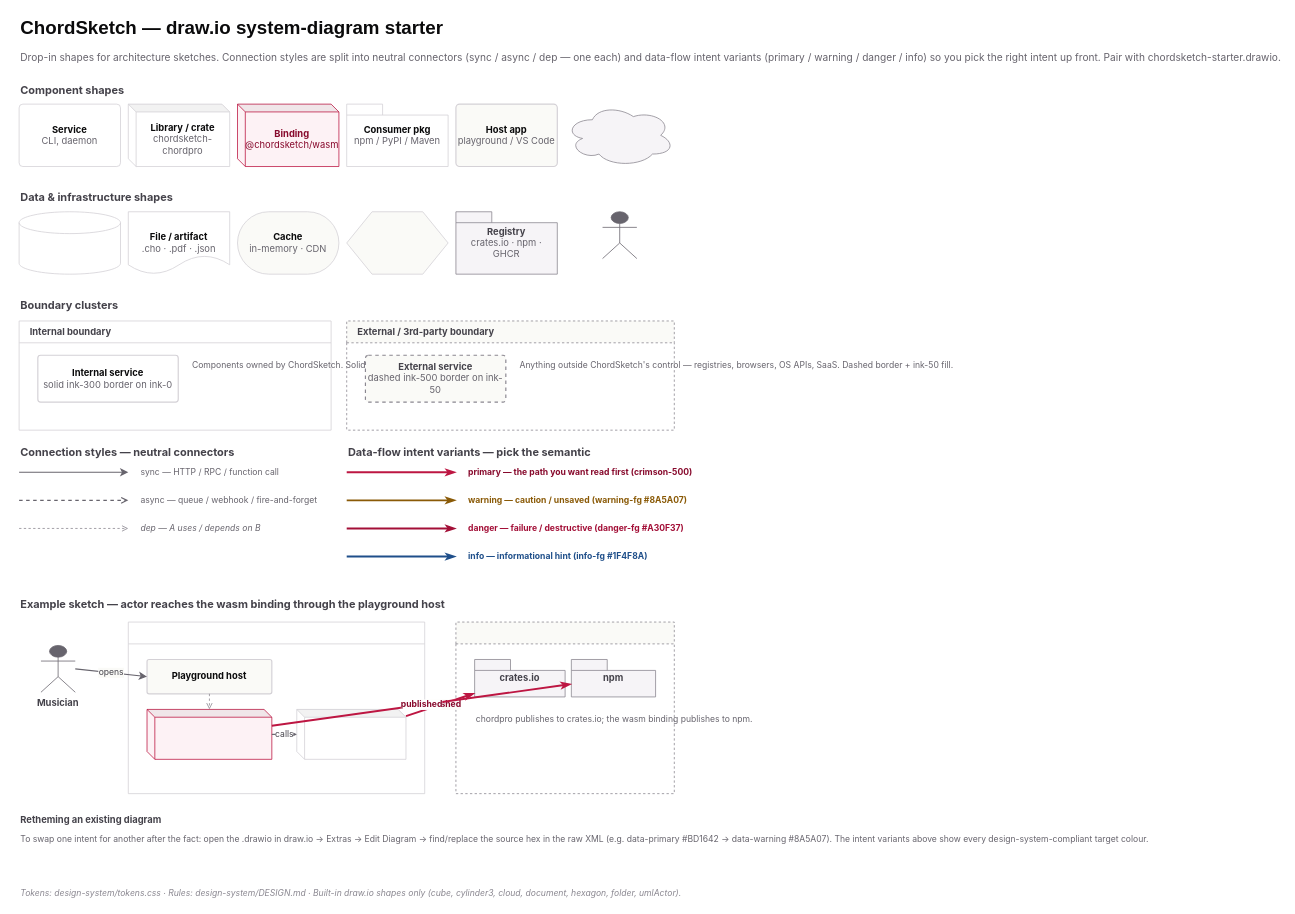
Image size: 1295x914. Some labels were removed from this diagram. The box of each missing label's shape, as (x1, y1, x2, y2) in pixels:
@chordsketch/wasm: (146, 709, 272, 759)
Actor / user: (602, 211, 637, 259)
ChordSketch (internal): (128, 621, 425, 794)
chordsketch-chordpro: (296, 709, 406, 759)
Database SQLite, Postgres…: (18, 211, 121, 274)
External system 3rd-party API: (564, 103, 674, 167)
Queue / stream async hand-off: (346, 211, 448, 274)
Registries (external): (455, 621, 674, 794)
